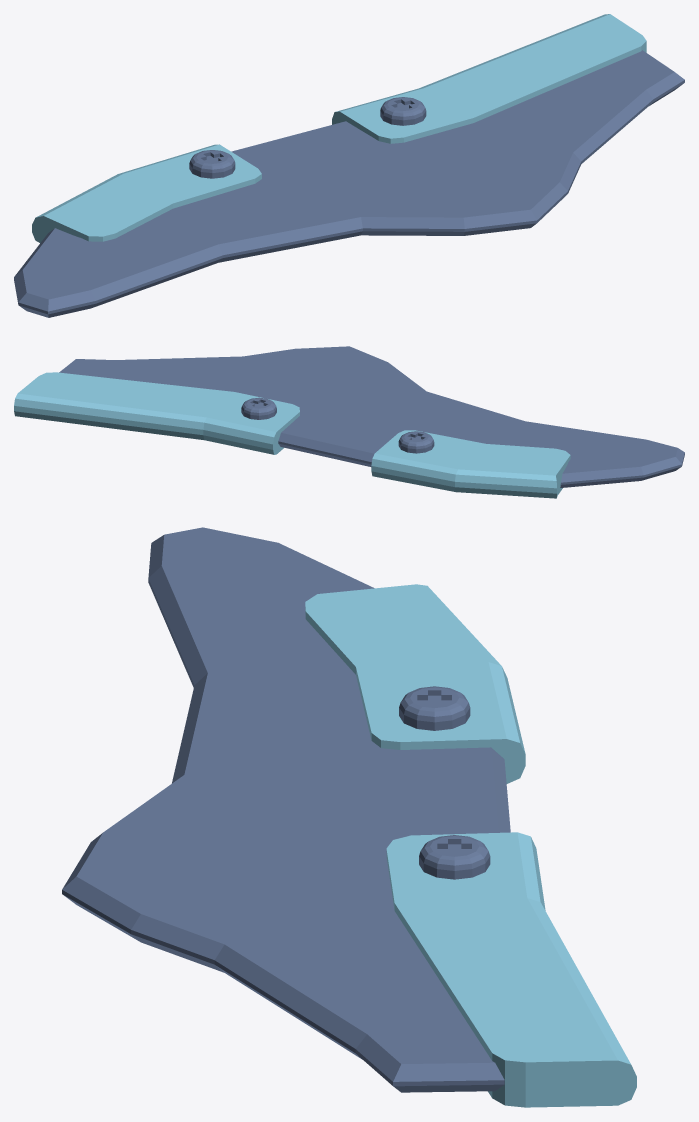
The model's file is AWingL.fbx.
3 views of the same model, one above another, from view 1: azimuth 30°, elevation 25°; view 2: azimuth 150°, elevation 25°; view 3: azimuth 270°, elevation 25° (orthographic). The views are drawn at different scales.
Visible parts, largest first — view 1: AWing.L; view 2: AWing.L; view 3: AWing.L.
Boxes of the visible parts, x1=… form: AWing.L: x1=14, y1=14, x2=684, y2=317; AWing.L: x1=14, y1=346, x2=684, y2=498; AWing.L: x1=62, y1=527, x2=636, y2=1107.
Size of the model in its own units: 750 by 51.1 by 332.
